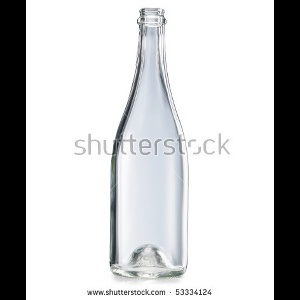emptybottle: (111, 7, 188, 280)
